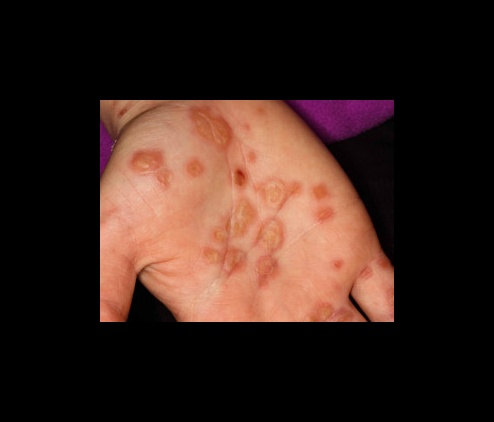SJS-TEN: (105, 101, 395, 324)
